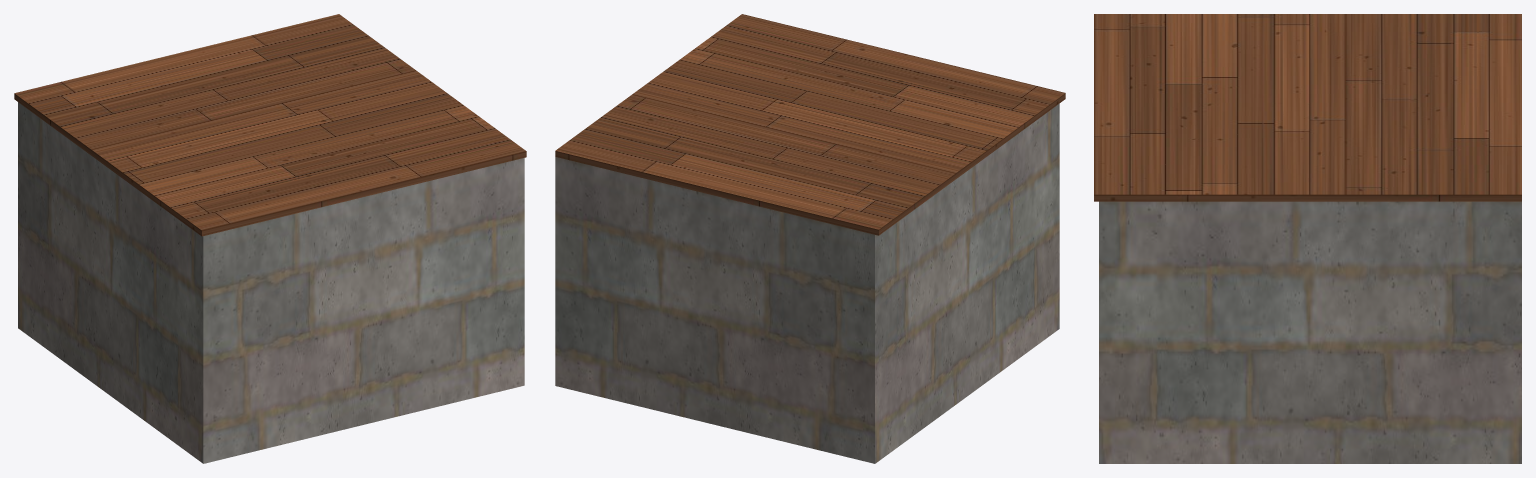
Rendered from floor_wood_e0_30_30_0.glb.
3 renders of one model, left to right at view 1: azimuth 30°, elevation 25°; view 2: azimuth 150°, elevation 25°; view 3: azimuth 270°, elevation 25°, orthographic. The views are drawn at different scales.
Parts seen in each view (by area): view 1: floor_wood_e0_30_30_0_granite, floor_wood_e0_30_30_0_wood; view 2: floor_wood_e0_30_30_0_granite, floor_wood_e0_30_30_0_wood; view 3: floor_wood_e0_30_30_0_granite, floor_wood_e0_30_30_0_wood.
Boxes of the visible parts, <box> form: floor_wood_e0_30_30_0_granite: <box>18,102,524,463</box>; floor_wood_e0_30_30_0_wood: <box>14,14,526,236</box>; floor_wood_e0_30_30_0_granite: <box>555,103,1059,463</box>; floor_wood_e0_30_30_0_wood: <box>555,14,1065,235</box>; floor_wood_e0_30_30_0_granite: <box>1099,201,1521,463</box>; floor_wood_e0_30_30_0_wood: <box>1094,14,1521,201</box>.
Size of the model in its own units: 1.7 by 1.18 by 1.7.
2 materials, 2 textured.
